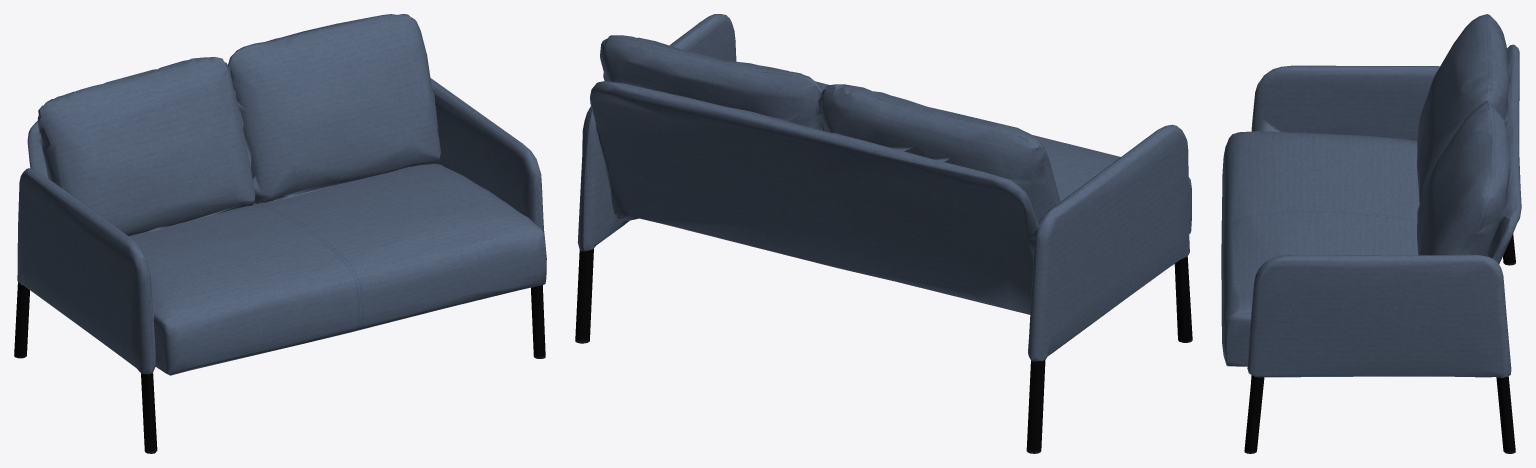
Rendered from glostad_loveseat_knisa_medium_blue.glb.
3 renders of one model, left to right at view 1: azimuth 30°, elevation 25°; view 2: azimuth 150°, elevation 25°; view 3: azimuth 270°, elevation 25°, orthographic. The views are drawn at different scales.
Parts seen in each view (by area): view 1: ProcessedMeshNode; view 2: ProcessedMeshNode; view 3: ProcessedMeshNode.
Boxes of the visible parts, box(x1,y1,x2,y2) form: ProcessedMeshNode: box(14, 14, 546, 453); ProcessedMeshNode: box(575, 14, 1192, 453); ProcessedMeshNode: box(1221, 14, 1521, 453).
Size of the model in its own units: 1.23 by 0.7664 by 0.7928.
Materials: 2 (2 with a texture image).
